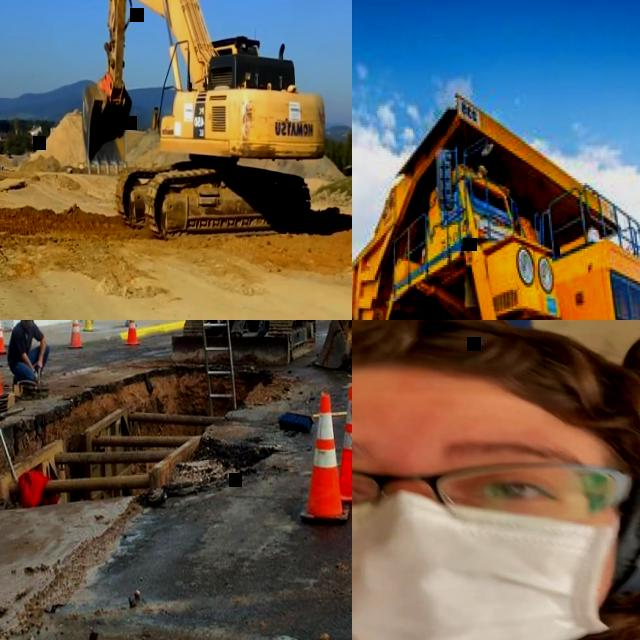machinery: (352, 79, 640, 320), (81, 0, 326, 237)
mask: (352, 503, 619, 640)
no_helmet: (352, 320, 640, 444)
no_vest: (14, 325, 36, 361)
person: (352, 320, 640, 640), (8, 320, 50, 383)
safety_cone: (298, 391, 348, 524), (338, 381, 352, 501), (0, 341, 9, 411), (67, 320, 83, 349), (125, 320, 141, 345), (0, 320, 8, 353)
